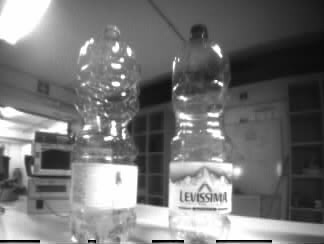Bottle: (69, 25, 141, 244), (165, 24, 234, 244)
